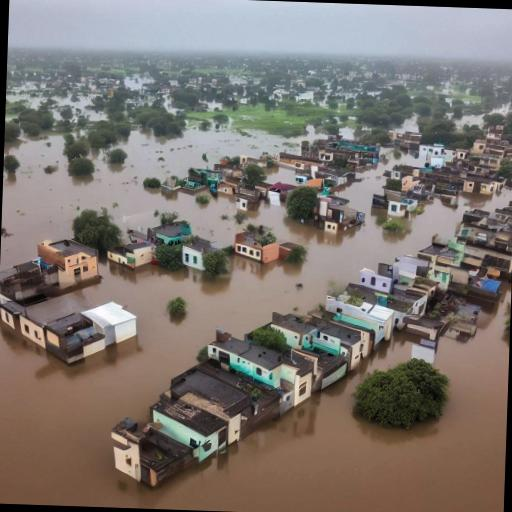flood: (0, 125, 512, 512), (54, 92, 105, 121), (123, 74, 155, 91), (5, 94, 45, 107), (458, 115, 482, 126), (162, 94, 176, 112), (404, 117, 418, 130), (19, 81, 38, 90), (206, 101, 222, 110), (52, 109, 61, 119), (237, 98, 248, 103)
house: (0, 234, 139, 366), (147, 356, 281, 463), (206, 328, 316, 411), (103, 408, 197, 494), (265, 308, 374, 372), (418, 237, 504, 303), (320, 286, 396, 344), (358, 266, 430, 320), (312, 193, 367, 238), (318, 138, 381, 171), (187, 164, 241, 200), (232, 229, 282, 267), (106, 234, 155, 270), (460, 202, 512, 234), (390, 164, 431, 194), (180, 236, 216, 270), (278, 150, 326, 172), (152, 221, 192, 246), (382, 192, 418, 218), (473, 135, 512, 159), (462, 173, 501, 196), (266, 179, 296, 208), (418, 141, 447, 159), (302, 174, 328, 191), (240, 156, 268, 166)
